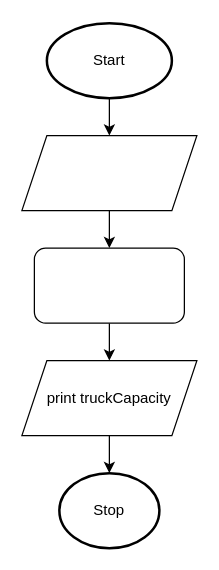
Some shapes in this 219 by 570 pixel diagram are drawn without their labels. The shapes that lost their labels are listed below. From the top down, each one's box as (x1, y1, x2, y2) in pixels, then its label:
(21, 134, 197, 211): get logLength
(33, 247, 184, 323): truckCapacity = 55 / logLength
